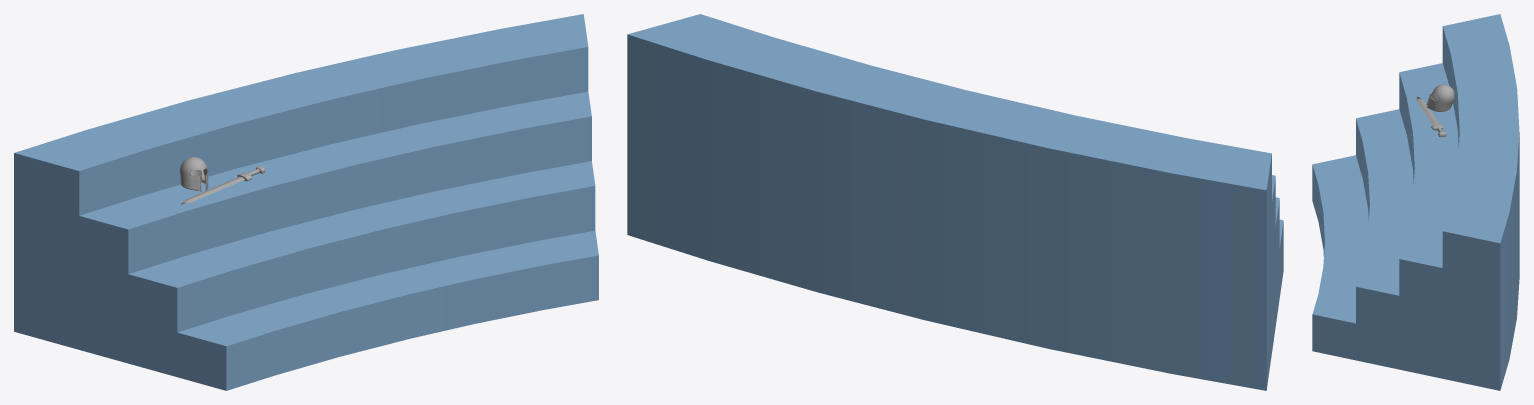
The model's file is Stairs_Word_Helmet.fbx.
The picture shows the model from 3 angles, left to right: view 1: azimuth 30°, elevation 25°; view 2: azimuth 150°, elevation 25°; view 3: azimuth 270°, elevation 25°; orthographic projection. The views are drawn at different scales.
Parts seen in each view (by area): view 1: Escaleras, Casco, Box001; view 2: Escaleras; view 3: Escaleras, Casco, Box001.
Boxes of the visible parts, bbox=[...] form: Escaleras: bbox=[14, 14, 598, 390]; Casco: bbox=[180, 157, 208, 191]; Box001: bbox=[181, 166, 265, 204]; Escaleras: bbox=[627, 14, 1283, 390]; Escaleras: bbox=[1312, 14, 1519, 390]; Casco: bbox=[1426, 84, 1454, 111]; Box001: bbox=[1416, 96, 1446, 137].
Size of the model in its own units: 22.79 by 6.83 by 8.69.
